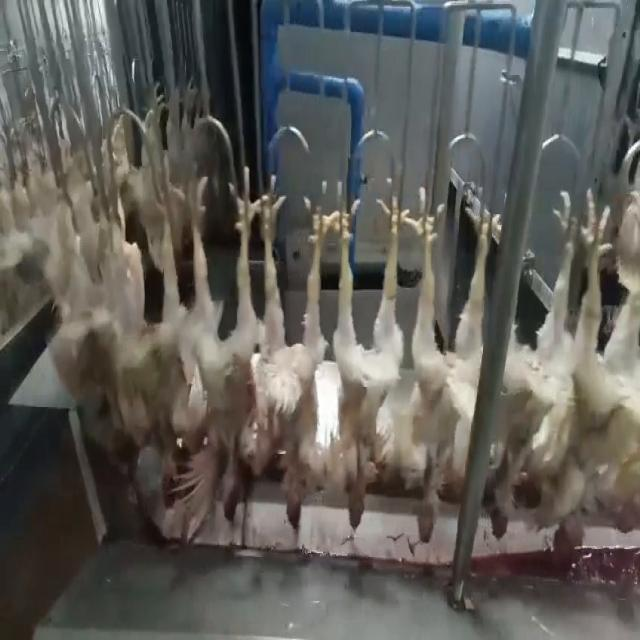chicken: (486, 186, 590, 540), (236, 179, 335, 535), (405, 185, 495, 548), (553, 188, 638, 567), (166, 163, 254, 525), (324, 171, 405, 540), (120, 165, 174, 480)
